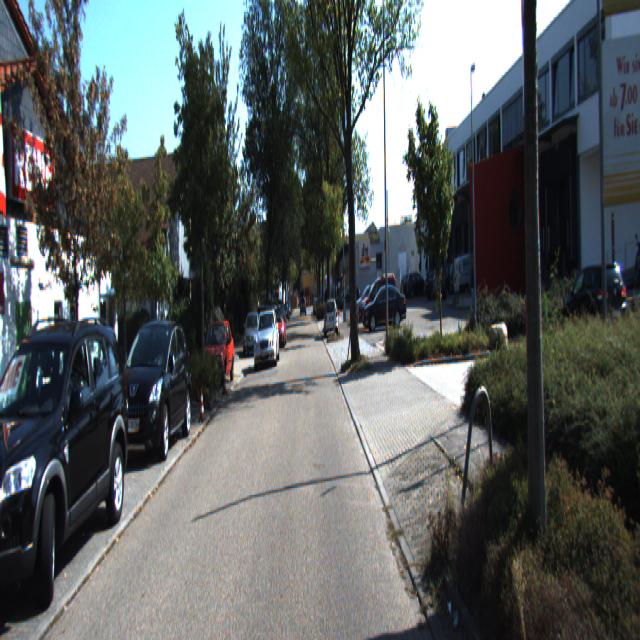Car: (0, 316, 135, 632), (111, 316, 194, 468), (198, 318, 235, 393), (360, 272, 400, 328), (362, 281, 408, 328), (253, 309, 281, 369), (324, 296, 339, 338)
DontCare: (563, 258, 626, 348), (408, 265, 447, 300), (242, 313, 262, 359), (339, 279, 361, 310), (311, 294, 323, 318), (277, 301, 291, 320), (299, 290, 306, 316)
Van: (453, 252, 496, 305)
